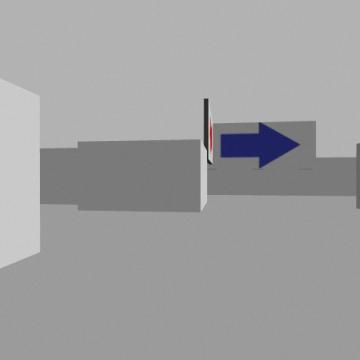blue_right: (221, 123, 300, 167)
